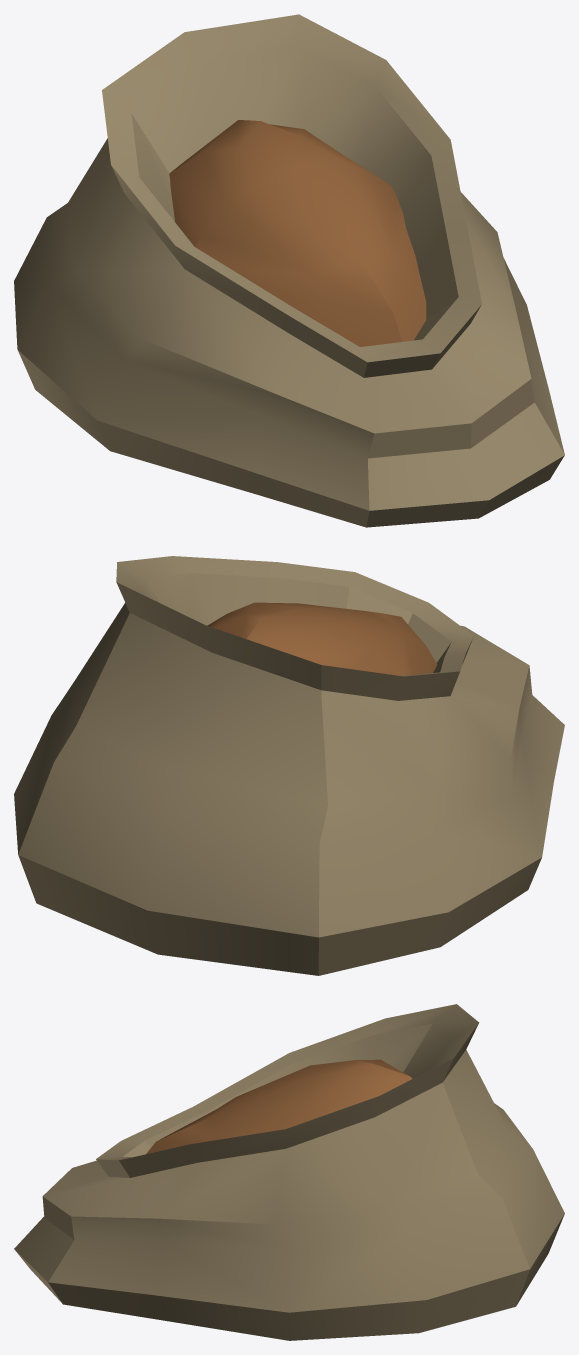
File: Bag_Open.glb
The picture shows the model from 3 angles, top to bottom: view 1: azimuth 30°, elevation 25°; view 2: azimuth 150°, elevation 25°; view 3: azimuth 270°, elevation 25°; orthographic projection. The views are drawn at different scales.
Parts seen in each view (by area): view 1: Bag_Open; view 2: Bag_Open; view 3: Bag_Open.
Part boxes in pixels (x1=…): Bag_Open: x1=14, y1=14, x2=564, y2=527; Bag_Open: x1=14, y1=556, x2=564, y2=975; Bag_Open: x1=14, y1=1004, x2=564, y2=1340.
Bounding box in the file's own units: 0.1502 × 0.1044 × 0.2035.
